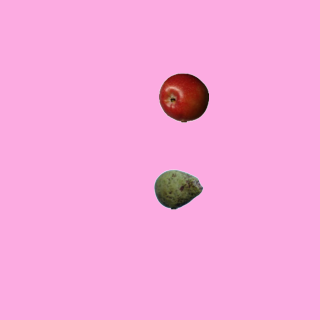Apple Braeburn: (158, 72, 208, 122)
Pear Stone: (153, 164, 203, 214)
